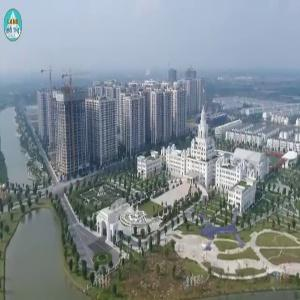drone: (181, 198, 249, 266)
